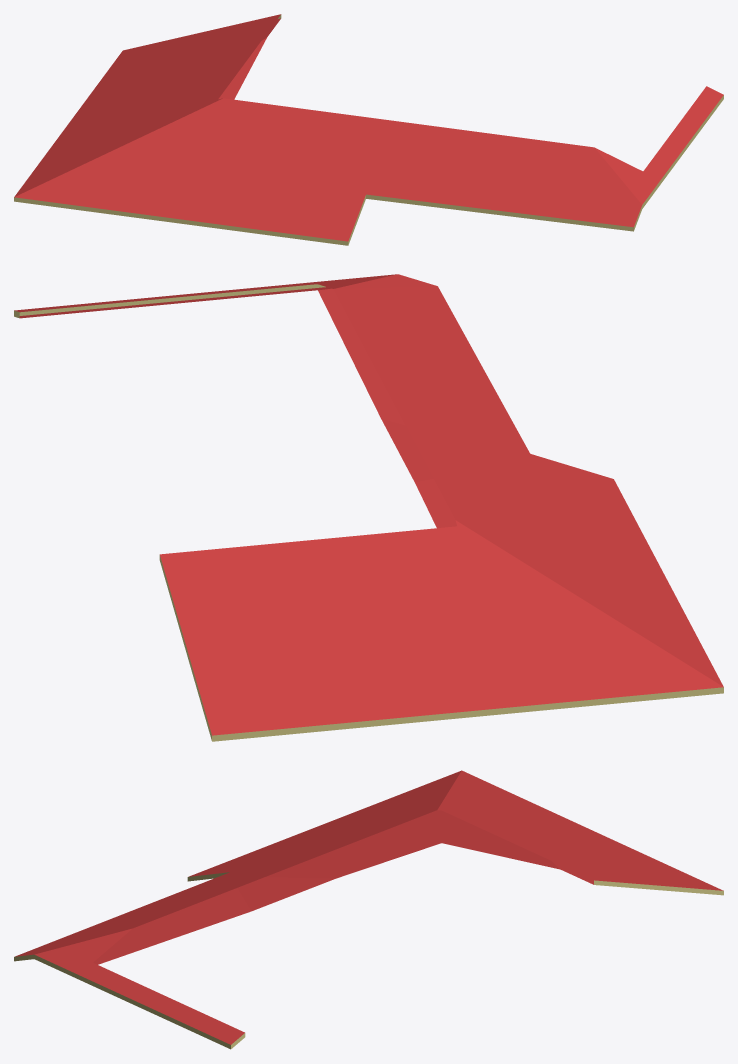
3 views of the same model, one above another, from view 1: azimuth 30°, elevation 25°; view 2: azimuth 150°, elevation 25°; view 3: azimuth 270°, elevation 25° (orthographic). The views are drawn at different scales.
Bounding box in the file's own units: 14.73 × 14.16 × 1.49.
